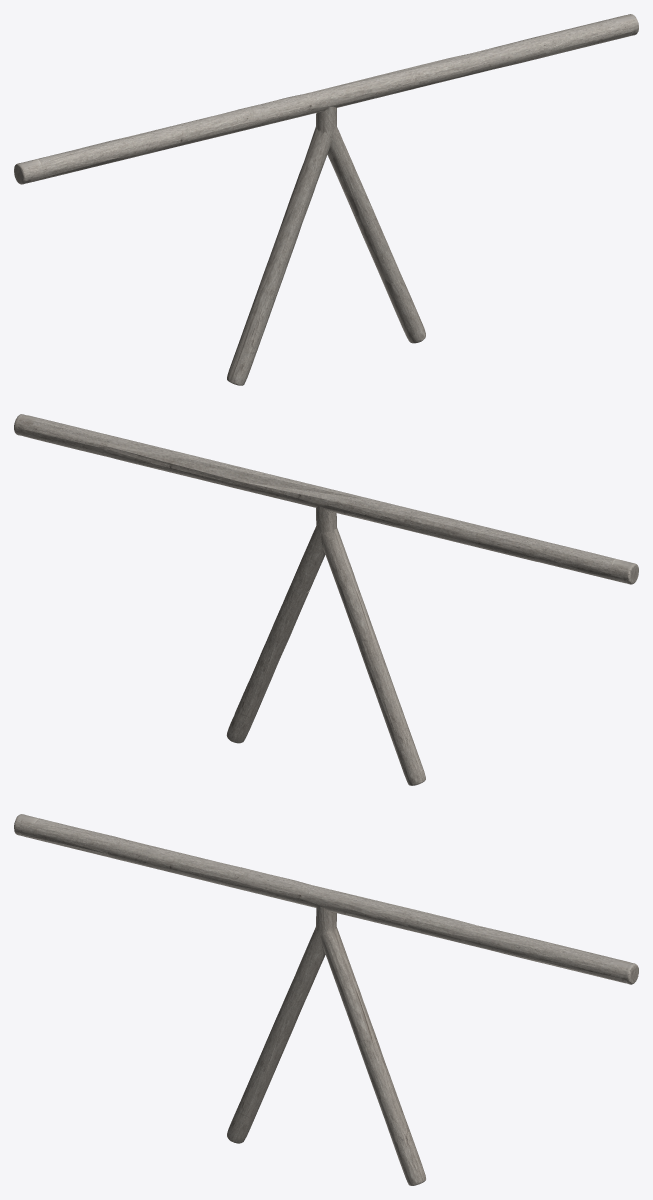
File: Floorboard_path_segment.glb
3 renders of one model, top to bottom at view 1: azimuth 30°, elevation 25°; view 2: azimuth 150°, elevation 25°; view 3: azimuth 330°, elevation 25°, orthographic.
Bounding box in the file's own units: 1.9 × 0.8079 × 0.0586.
Materials: 1 (1 with a texture image).
